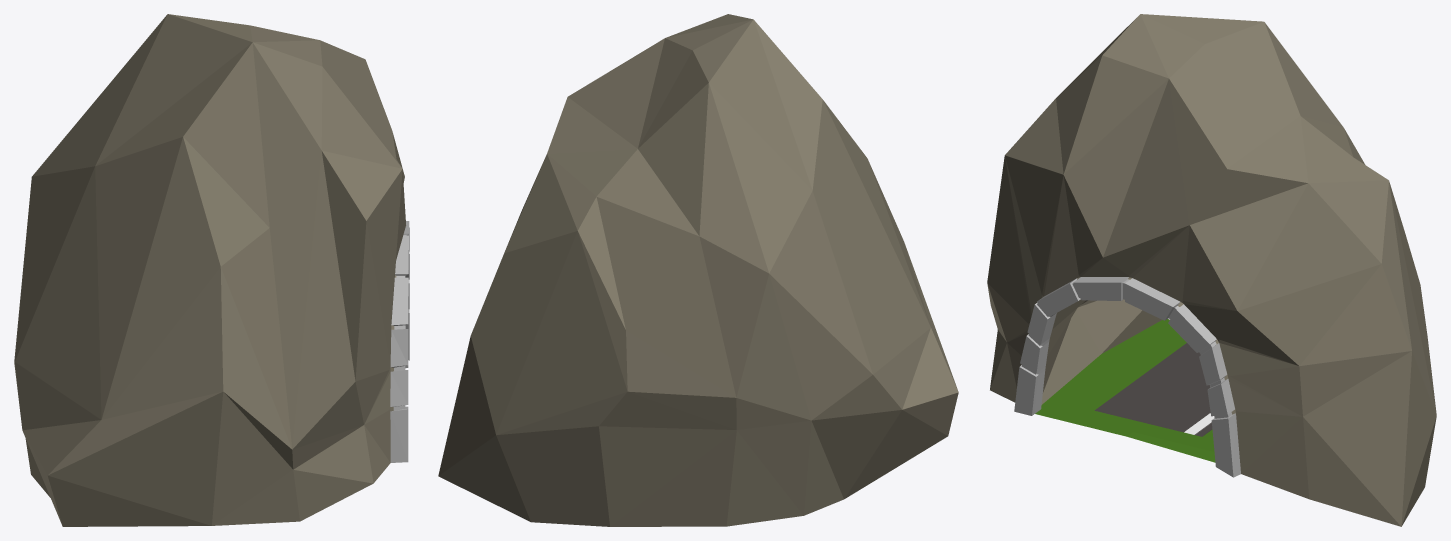
Rendered from cave_offramp.fbx.
3 views of the same model, side by side, from view 1: azimuth 30°, elevation 25°; view 2: azimuth 150°, elevation 25°; view 3: azimuth 270°, elevation 25° (orthographic). The views are drawn at different scales.
Parts seen in each view (by area): view 1: Cave; view 2: Cave; view 3: Cave.
Part boxes in pixels (<box>): Cave: <box>14,14,409,526</box>; Cave: <box>438,14,958,526</box>; Cave: <box>987,14,1436,526</box>.
Bounding box in the file's own units: 0.1814 × 0.1911 × 0.1804.
